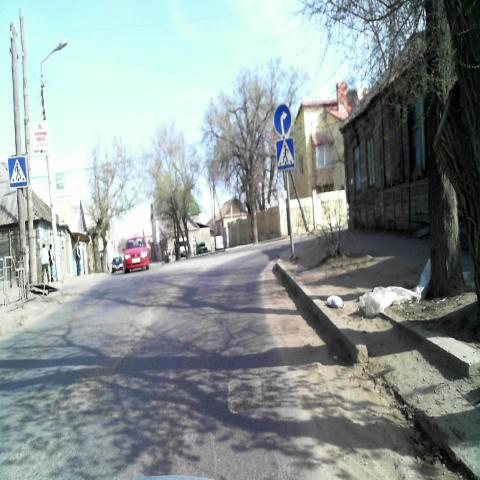4_1_2: (274, 104, 290, 136)
5_19_1: (8, 155, 27, 189), (276, 138, 295, 170)
